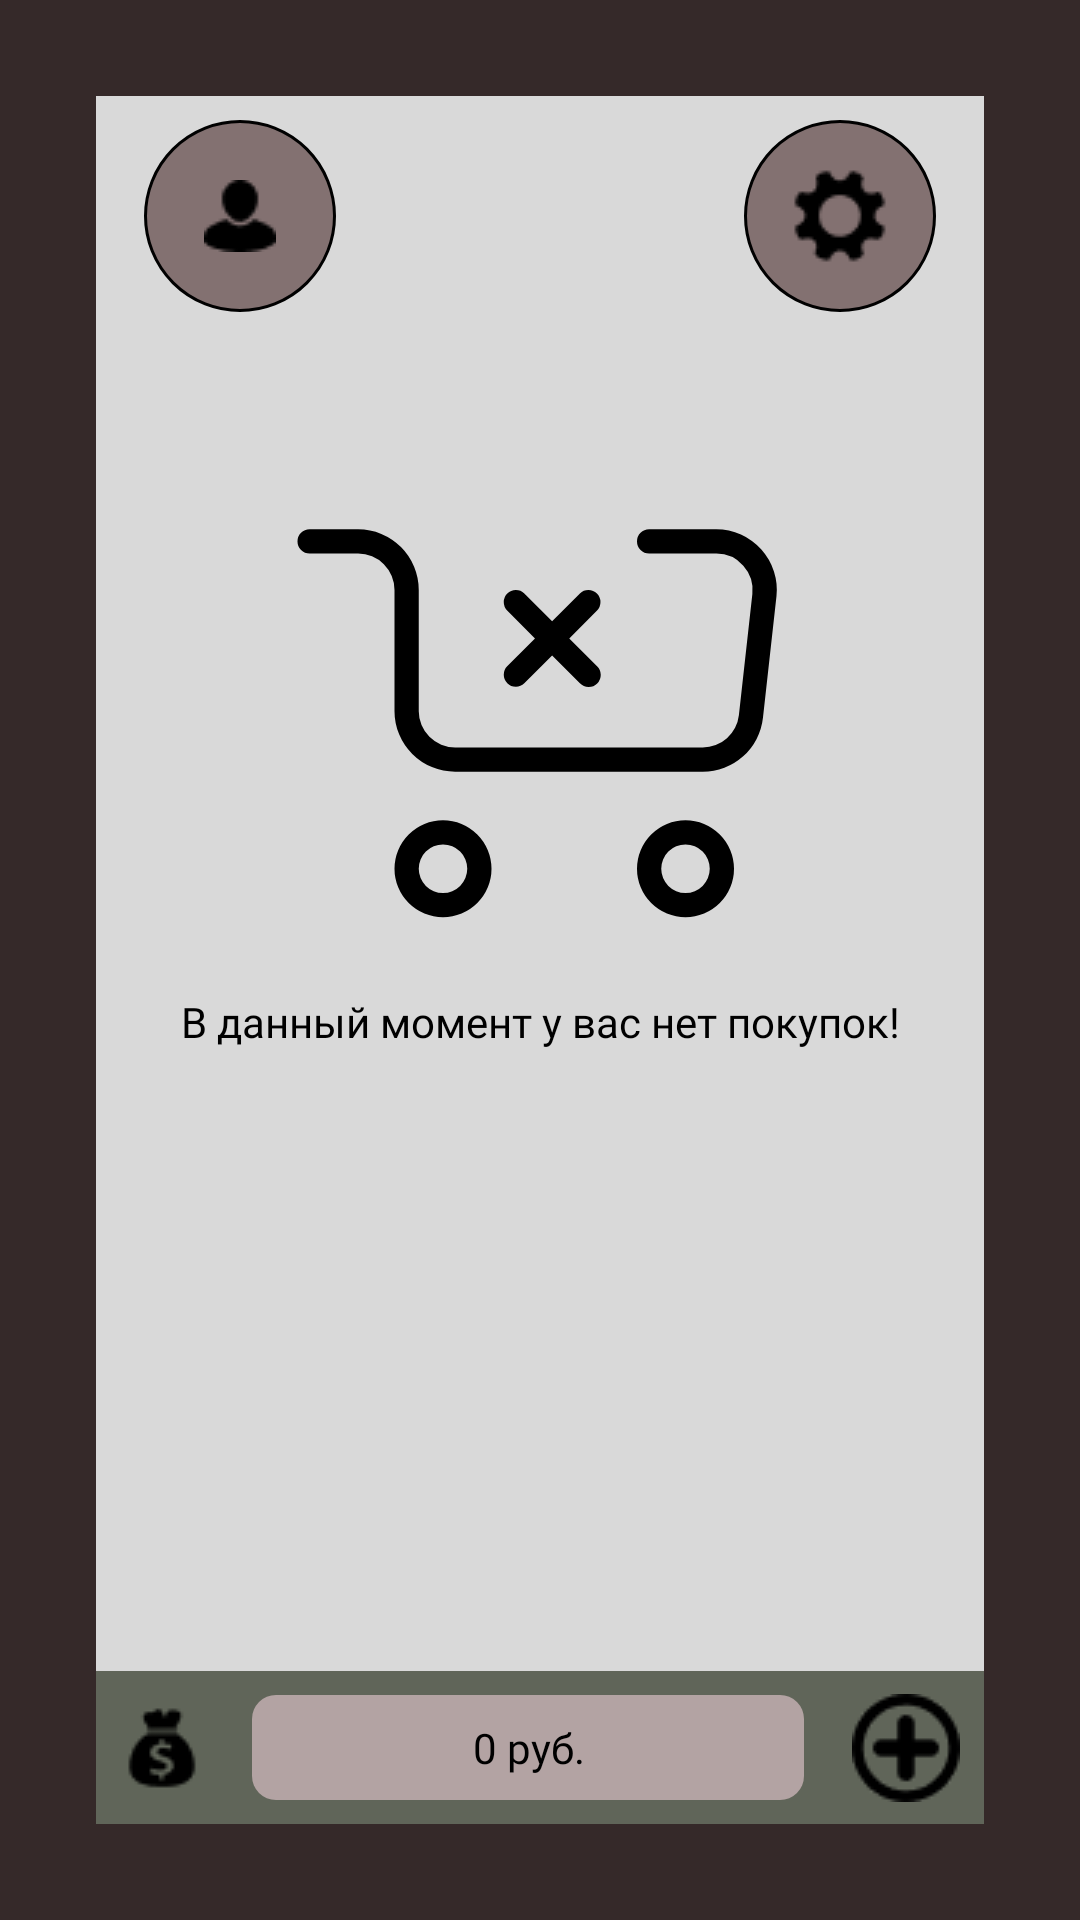

Where to tap for icons on this 1080x1920 app screen, as point (x, y):
money: point (162, 1748)
plus: point (906, 1748)
setting: point (840, 216)
user: point (240, 216)
